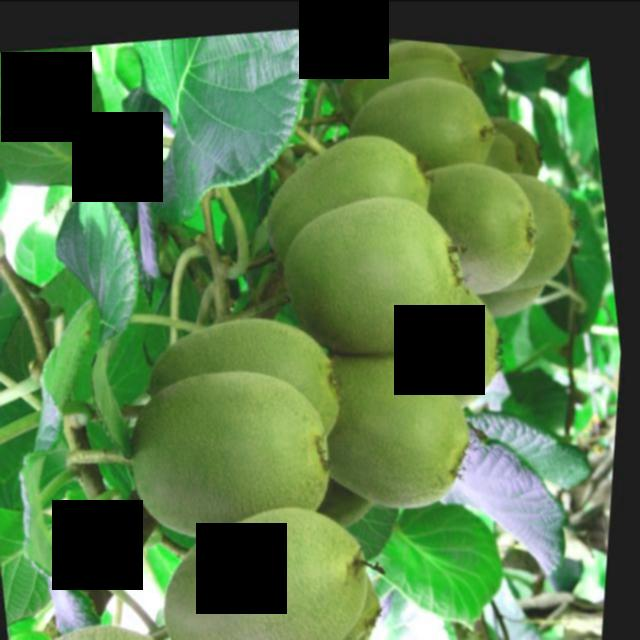kiwi: (113, 341, 358, 560), (264, 163, 485, 369), (139, 286, 361, 482), (290, 316, 499, 523), (151, 475, 402, 640), (253, 106, 454, 287), (379, 134, 557, 309), (319, 49, 509, 200), (326, 26, 491, 153), (17, 595, 201, 640), (434, 34, 586, 84)
